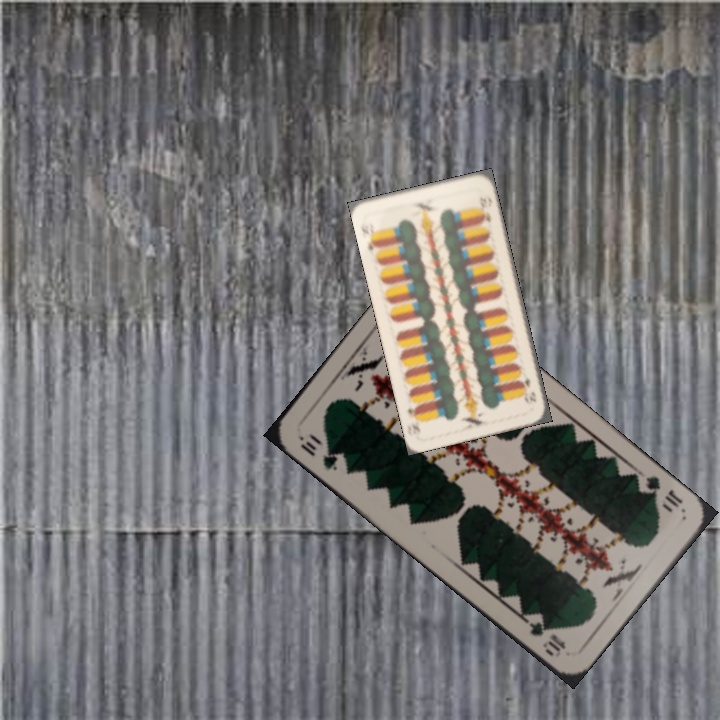E10: (357, 218, 382, 254), (518, 369, 539, 406)
G10: (294, 431, 341, 474), (639, 471, 686, 511)
